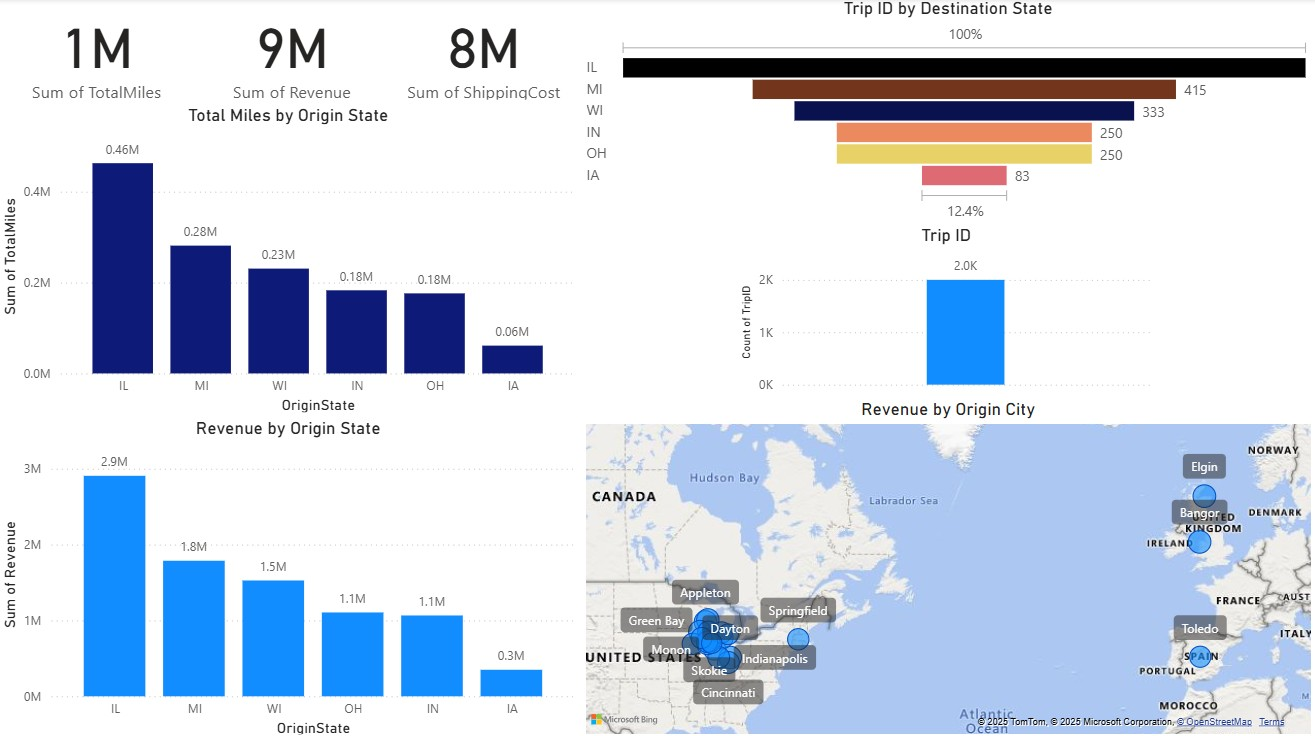

What the dashboard file says about the page in this screenshot:
{"tool":"powerbi","page":{"name":"Page 1","canvas":[1280,720],"ordinal":0},"visuals":[{"type":"card","fields":{"Values":["Sum(Trips.TotalMiles)"]},"box":[0,0,194.5,103.6],"z":0},{"type":"card","fields":{"Values":["Sum(Trips.Revenue)"]},"box":[194.5,0,183.6,103.6],"z":1},{"type":"card","fields":{"Values":["Sum(Trips.ShippingCost)"]},"box":[378.2,0,189.1,103.6],"z":2},{"type":"clusteredColumnChart","title":"Revenue by Origin State","fields":{"Y":["Sum(Trips.Revenue)"],"Category":["Trips.OriginState"]},"box":[0,407.3,567.3,312.7],"z":6},{"type":"map","title":"Revenue by Origin City","fields":{"Size":["Sum(Trips.Revenue)"],"Category":["Trips.OriginCity"]},"box":[567.3,389.1,712.7,330.9],"z":7},{"type":"columnChart","title":"Trip ID","fields":{"Y":["CountNonNull(Trips.TripID)"]},"box":[718.2,220,409.1,169.1],"z":8},{"type":"funnel","title":"Trip ID by Destination State","fields":{"Y":["CountNonNull(Trips.TripID)"],"Category":["Trips.DestinationState"]},"box":[567.3,0,712.7,220],"z":9},{"type":"clusteredColumnChart","title":"Total Miles by Origin State","fields":{"Y":["Sum(Trips.TotalMiles)"],"Category":["Trips.OriginState"]},"box":[0,103.6,567.3,303.6],"z":10}]}

Visuals, with their boxes in screenshot pixels (x1, y1, x2, y2), scaled from the page's 1280x720 canvas onto the 1315x736 screenshot:
card - Sum(Trips.TotalMiles): pyautogui.locateOnScreen(0, 0, 200, 106)
card - Sum(Trips.Revenue): pyautogui.locateOnScreen(200, 0, 388, 106)
card - Sum(Trips.ShippingCost): pyautogui.locateOnScreen(389, 0, 583, 106)
"Revenue by Origin State" clusteredColumnChart: pyautogui.locateOnScreen(0, 416, 583, 735)
"Revenue by Origin City" map: pyautogui.locateOnScreen(583, 398, 1314, 735)
"Trip ID" columnChart: pyautogui.locateOnScreen(738, 225, 1158, 398)
"Trip ID by Destination State" funnel: pyautogui.locateOnScreen(583, 0, 1314, 225)
"Total Miles by Origin State" clusteredColumnChart: pyautogui.locateOnScreen(0, 106, 583, 416)
